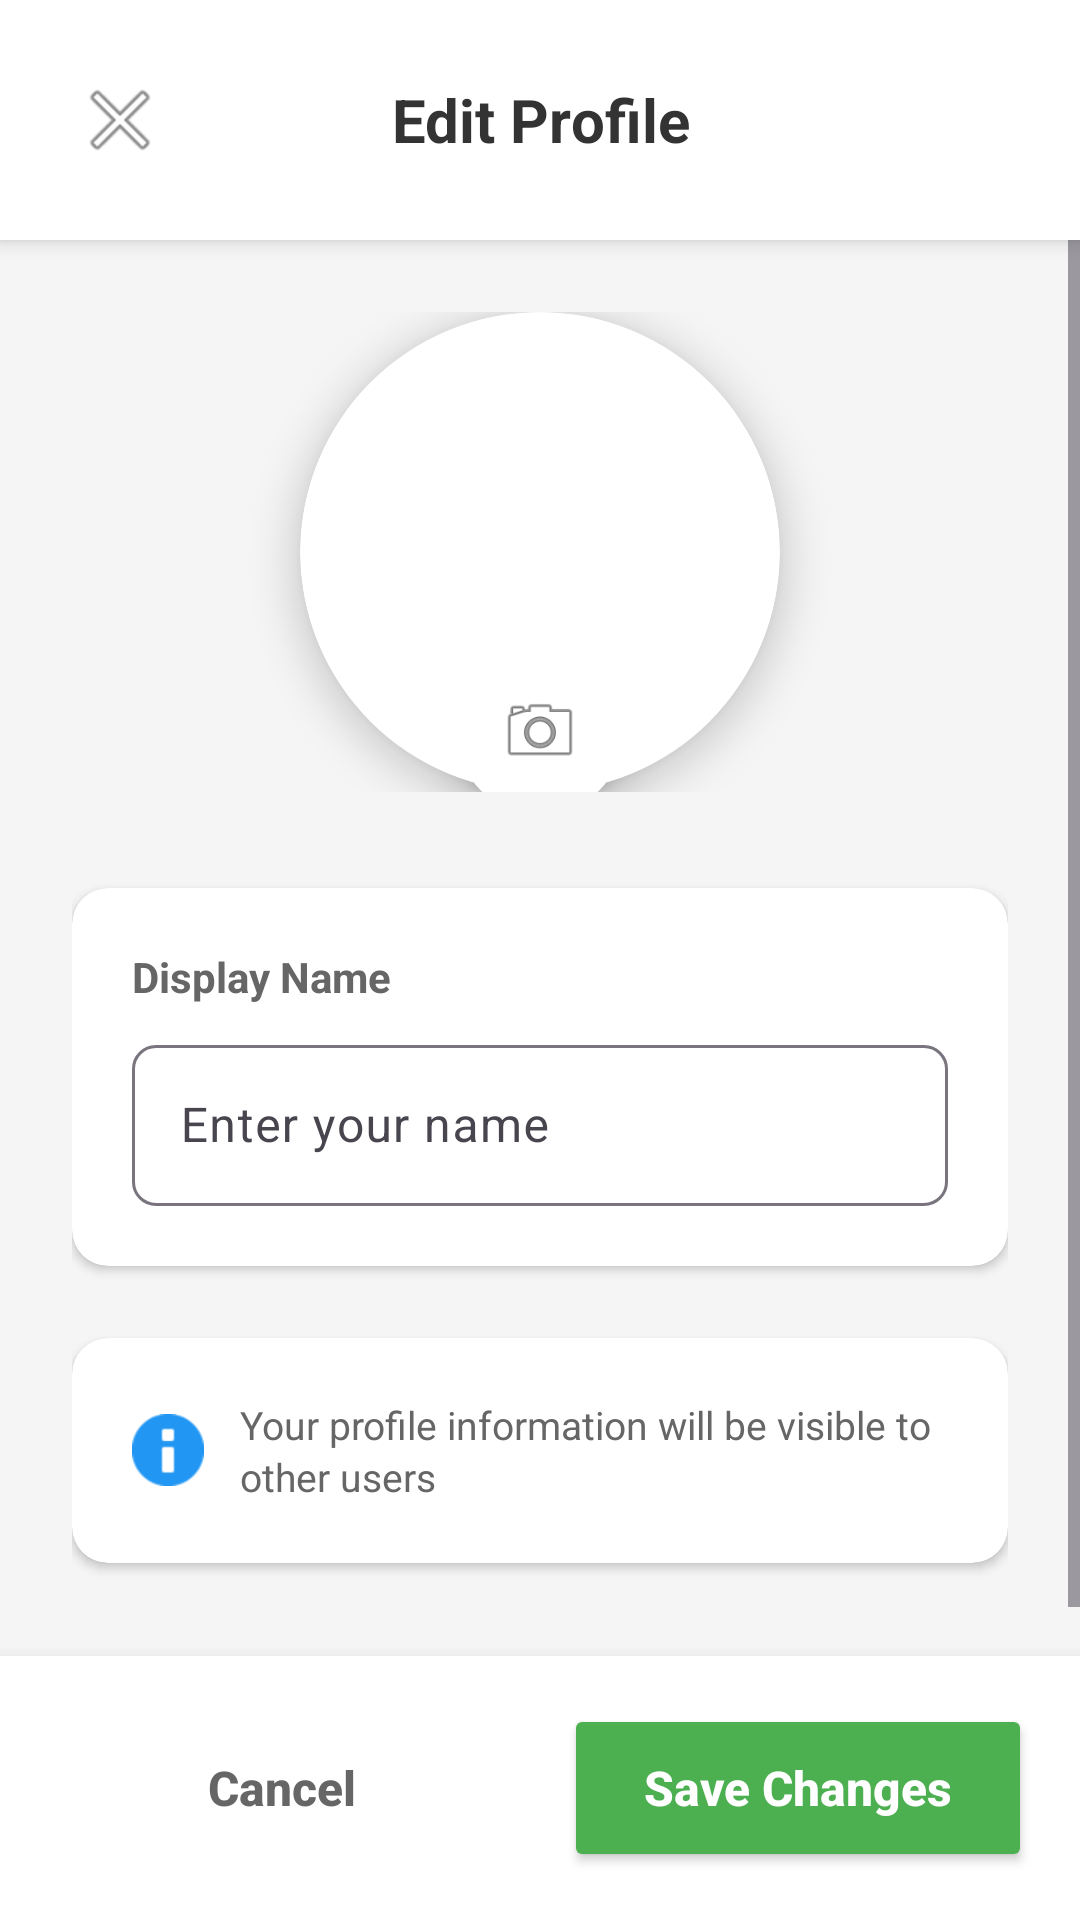

Icon click points for this 1080*1920 phone screenshot, format point (x, y):
camera: point (540, 730)
